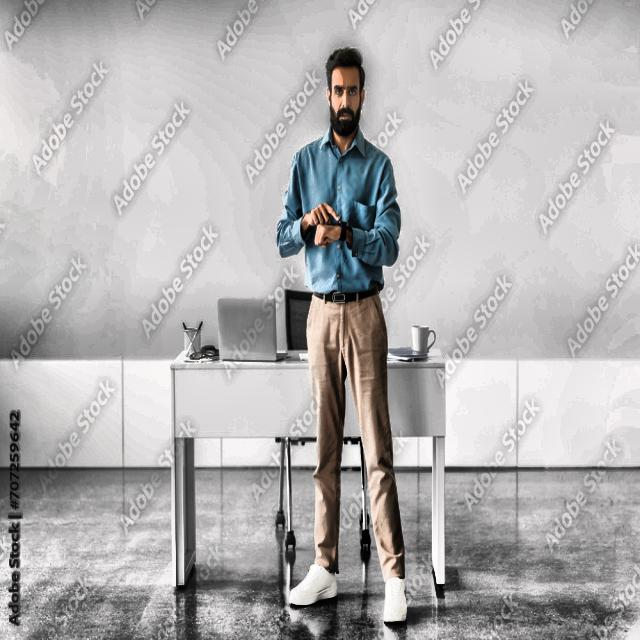Human: (237, 39, 456, 640)
